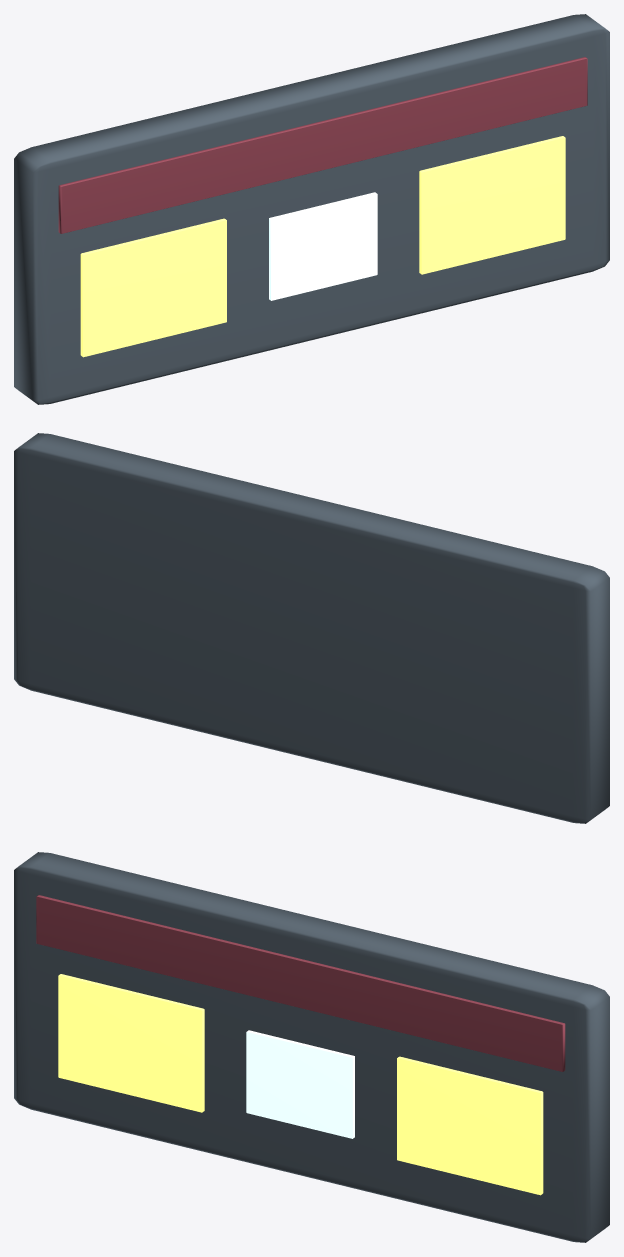
Rendered from SM_Gym_Scoreboard.fbx.
3 renders of one model, top to bottom at view 1: azimuth 30°, elevation 25°; view 2: azimuth 150°, elevation 25°; view 3: azimuth 330°, elevation 25°, orthographic.
Visible parts, largest first — view 1: SM_Gym_Scoreboard; view 2: SM_Gym_Scoreboard; view 3: SM_Gym_Scoreboard.
Part boxes in pixels (<box>): SM_Gym_Scoreboard: <box>14,14,609,404</box>; SM_Gym_Scoreboard: <box>14,433,609,823</box>; SM_Gym_Scoreboard: <box>14,852,609,1242</box>.
Bounding box in the file's own units: 4.6 × 1.85 × 0.31.
